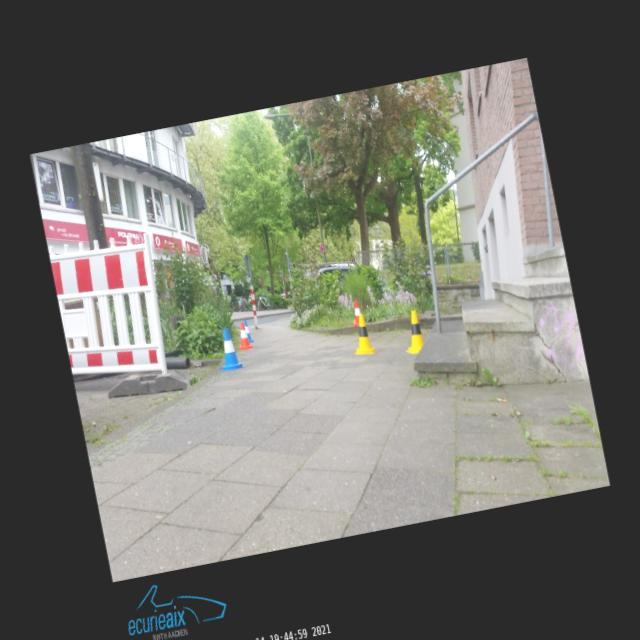blue_cone: (213, 327, 245, 372), (243, 320, 254, 342)
orange_cone: (234, 320, 253, 350), (349, 300, 362, 326)
yellow_cone: (348, 313, 376, 356), (400, 310, 426, 354)
